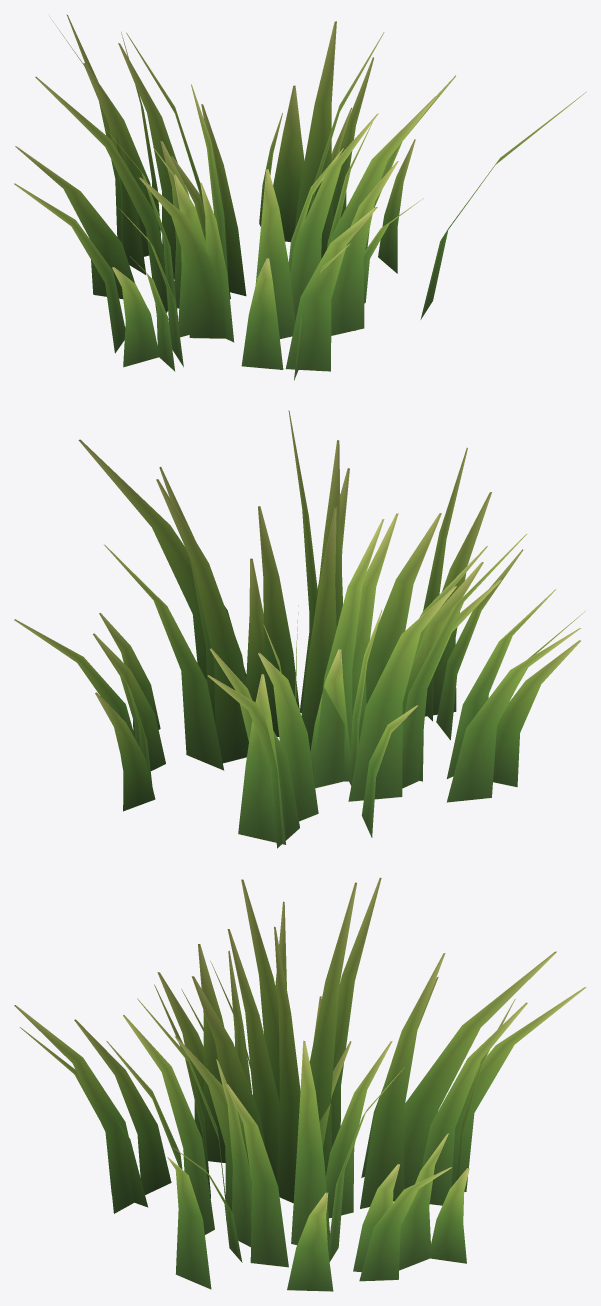
Rendered from GrassTuft.glb.
3 renders of one model, top to bottom at view 1: azimuth 30°, elevation 25°; view 2: azimuth 150°, elevation 25°; view 3: azimuth 270°, elevation 25°, orthographic. The views are drawn at different scales.
Parts seen in each view (by area): view 1: GrassTuft; view 2: GrassTuft; view 3: GrassTuft.
Part boxes in pixels (x1,y1,x2,y2): GrassTuft: (14, 14, 586, 380); GrassTuft: (14, 410, 585, 848); GrassTuft: (14, 877, 586, 1291).
Bounding box in the file's own units: 0.7377 × 0.3747 × 0.679.
Materials: 1 (1 with a texture image).
